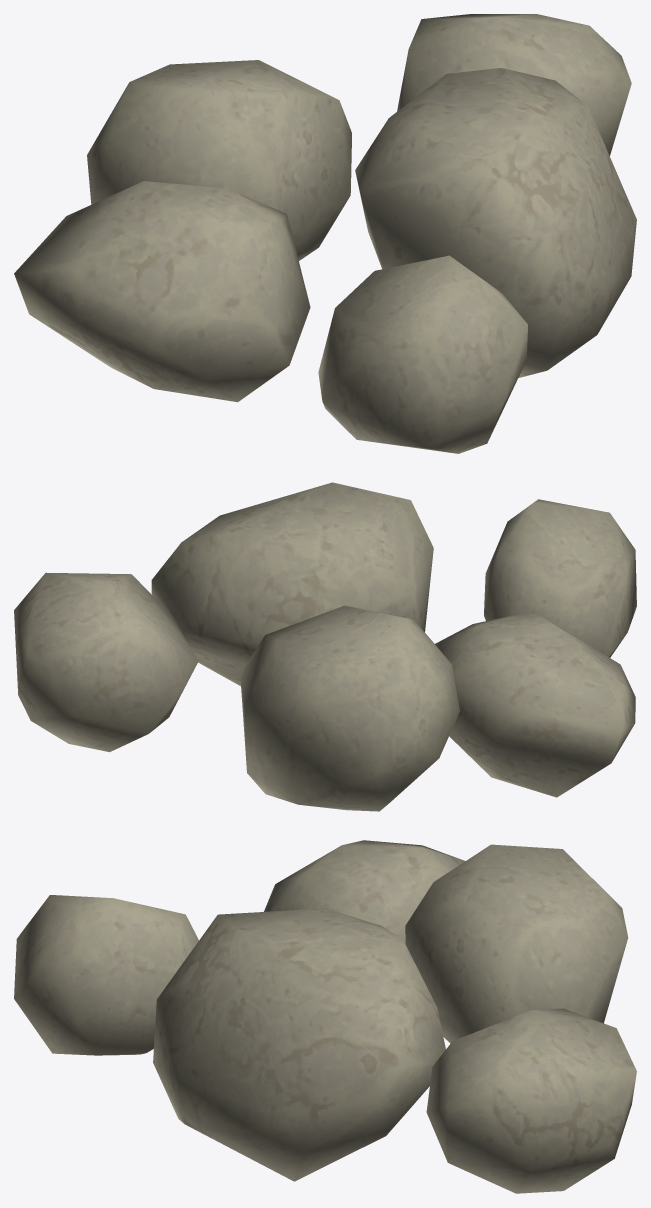
File: MSH_fwOF_Stone_Group_03.fbx
3 views of the same model, one above another, from view 1: azimuth 30°, elevation 25°; view 2: azimuth 150°, elevation 25°; view 3: azimuth 270°, elevation 25° (orthographic). The views are drawn at different scales.
Visible parts, largest first — view 1: MSH_fwOF_Stone_Group_03; view 2: MSH_fwOF_Stone_Group_03; view 3: MSH_fwOF_Stone_Group_03.
Part boxes in pixels (bbox=[...]): MSH_fwOF_Stone_Group_03: bbox=[14, 14, 636, 453]; MSH_fwOF_Stone_Group_03: bbox=[14, 482, 636, 811]; MSH_fwOF_Stone_Group_03: bbox=[14, 840, 636, 1193].
Bounding box in the file's own units: 0.8777 × 0.3181 × 0.7936.
